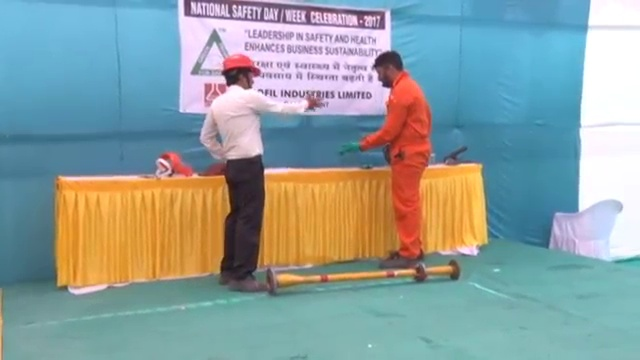helmet: (222, 51, 261, 78)
helmet_off: (372, 50, 405, 88)
helmet_on: (221, 53, 263, 89)
person: (195, 52, 321, 296), (354, 51, 434, 267)
